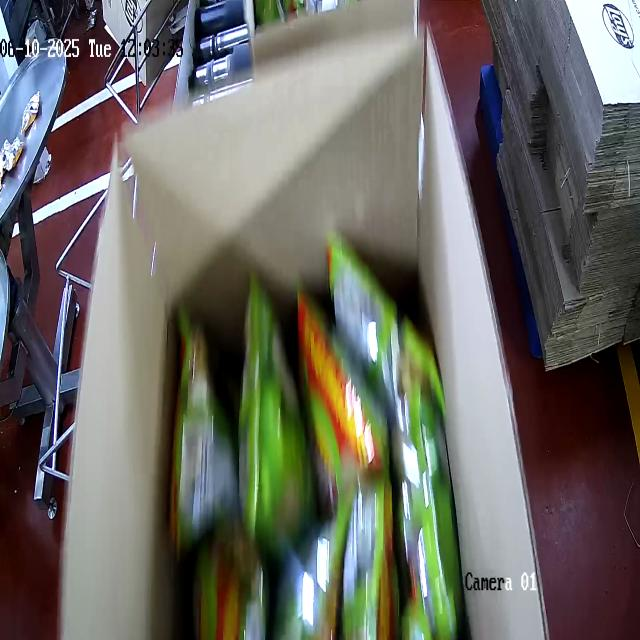YOGURT_HERB: (162, 253, 464, 640)
